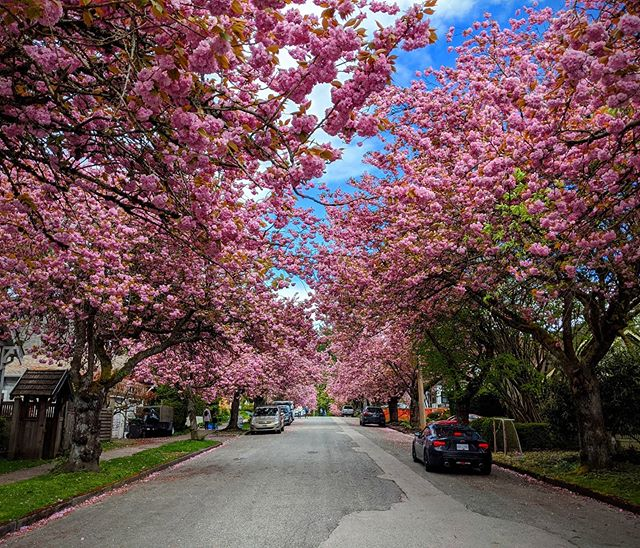car: (412, 416, 502, 480), (245, 406, 286, 438), (356, 403, 388, 430)
street: (26, 409, 619, 548)
vegetation: (1, 1, 616, 428)
